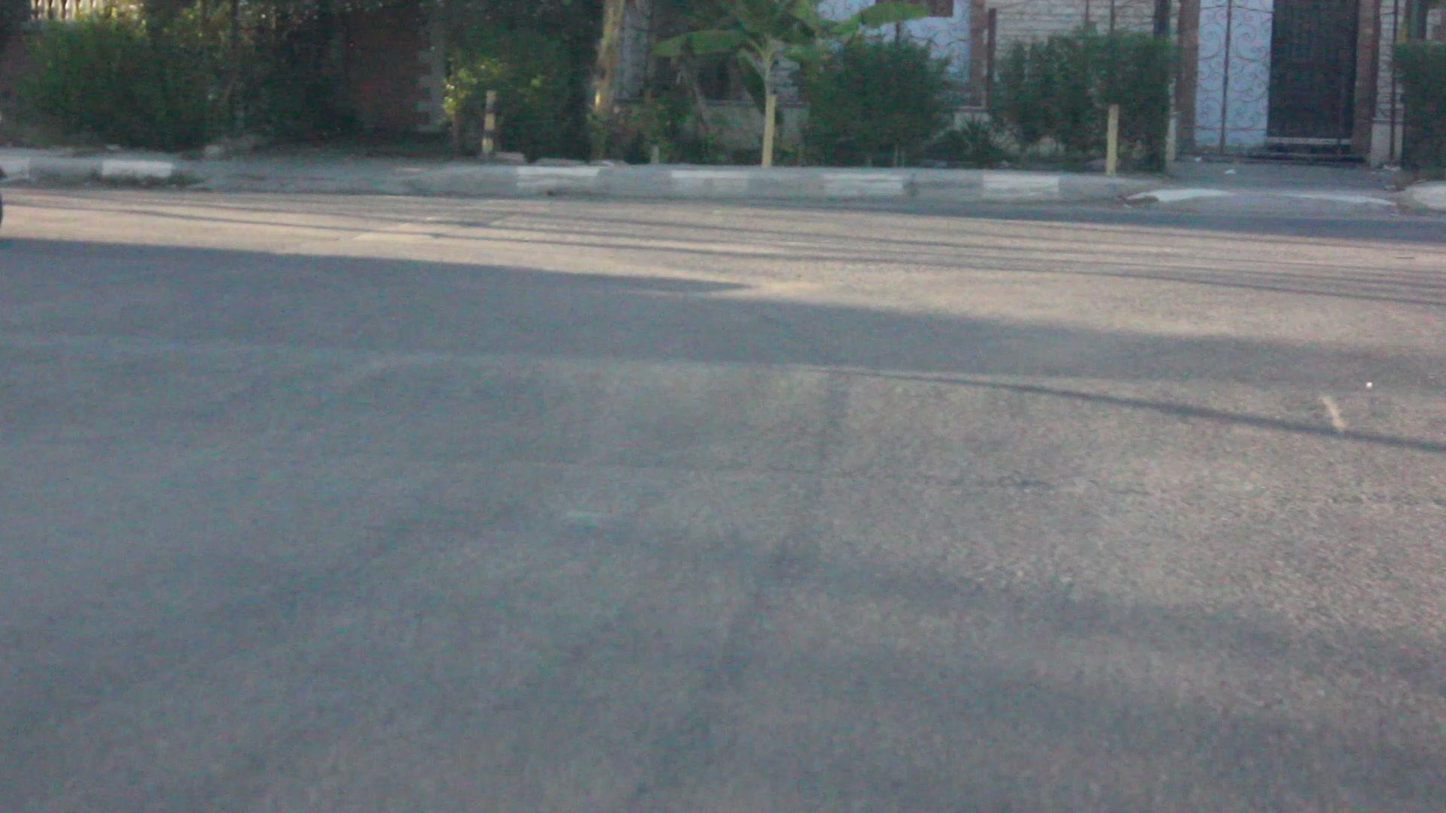Bump: (0, 316, 1446, 502)
